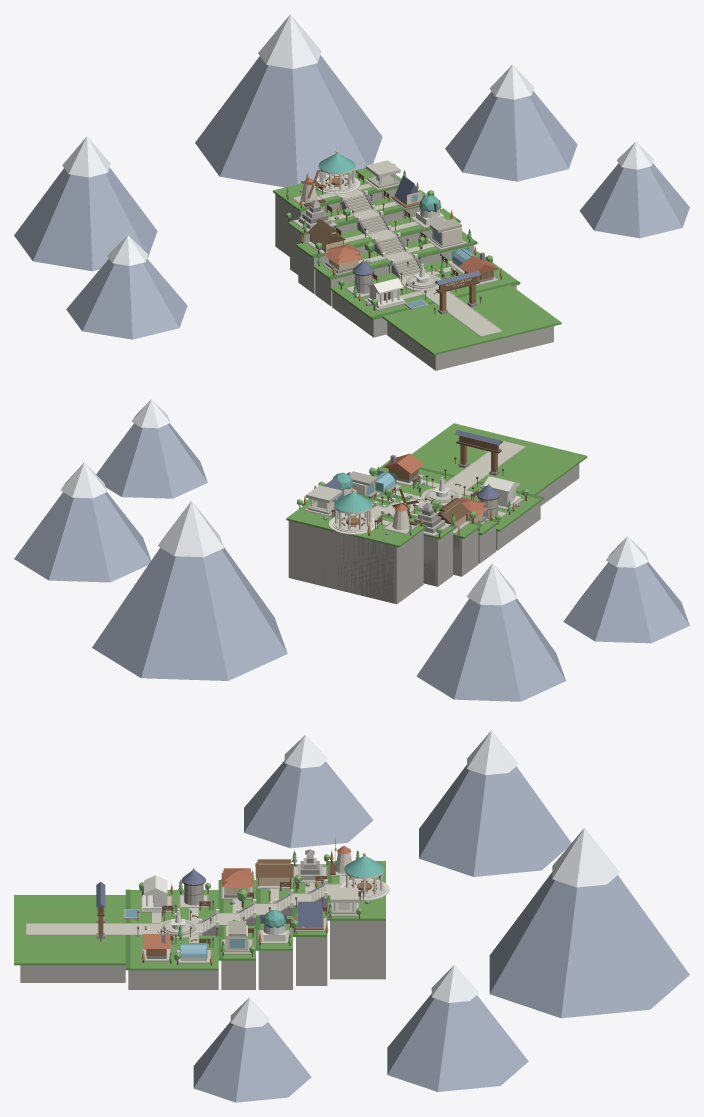
Rendered from wisdom-village.glb.
3 views of the same model, one above another, from view 1: azimuth 30°, elevation 25°; view 2: azimuth 150°, elevation 25°; view 3: azimuth 270°, elevation 25° (orthographic). The views are drawn at different scales.
Parts seen in each view (by area): view 1: Peak_22_104, Peak_-78_74, Peak_88_62, Peak_-96_14, Apron_grass, Peak_100_-4, Apron_rock, PeakSnow_22_104, Terrace_0_grass, Terrace_4_rock, PeakSnow_-78_74, Spine_0 (+11 smaller); view 2: Peak_22_104, Peak_-78_74, Peak_88_62, Terrace_4_rock, Peak_-96_14, Peak_100_-4, Apron_grass, Terrace_4_rock_lip, PeakSnow_22_104, Terrace_4_grass, Terrace_0_grass, PeakSnow_-78_74 (+11 smaller); view 3: Peak_22_104, Peak_-78_74, Peak_88_62, Peak_-96_14, Peak_100_-4, Apron_grass, Terrace_4_rock, Terrace_0_grass, PeakSnow_22_104, Apron_rock, Terrace_0_rock, Terrace_3_rock (+12 smaller).
Boxes of the visible parts, x1,y1,x2,y2 form: Peak_22_104: (195, 55, 382, 187); Peak_-78_74: (14, 167, 157, 271); Peak_88_62: (445, 91, 577, 181); Peak_-96_14: (66, 258, 187, 339); Apron_grass: (382, 285, 561, 355); Peak_100_-4: (579, 163, 689, 238); Apron_rock: (387, 322, 553, 370); PeakSnow_22_104: (258, 14, 321, 68); Terrace_0_grass: (330, 251, 520, 320); Terrace_4_rock: (275, 188, 397, 256); PeakSnow_-78_74: (62, 136, 110, 177); Spine_0: (403, 273, 501, 336); Peak_22_104: (92, 547, 287, 680); Peak_-78_74: (416, 598, 565, 701); Peak_88_62: (14, 492, 151, 582); Terrace_4_rock: (288, 521, 423, 604); Peak_-96_14: (563, 562, 689, 643); Peak_100_-4: (96, 423, 207, 498); Apron_grass: (411, 423, 587, 494); Terrace_4_rock_lip: (323, 534, 394, 603); PeakSnow_22_104: (158, 501, 223, 557); Terrace_4_grass: (286, 499, 427, 547); Terrace_0_grass: (369, 461, 544, 531); PeakSnow_-78_74: (467, 563, 517, 605); Peak_22_104: (489, 872, 689, 1018); Peak_-78_74: (419, 765, 571, 876); Peak_88_62: (387, 994, 528, 1091); Peak_-96_14: (244, 760, 373, 848); Peak_100_-4: (193, 1022, 311, 1102); Apron_grass: (14, 895, 125, 965); Terrace_4_rock: (330, 920, 385, 979); Terrace_0_grass: (125, 890, 218, 970); PeakSnow_22_104: (552, 828, 620, 887); Apron_rock: (20, 965, 125, 982); Terrace_0_rock: (128, 970, 218, 989); Terrace_3_rock: (296, 937, 327, 985).
Size of the model in its own units: 237 by 54.4 by 218.
